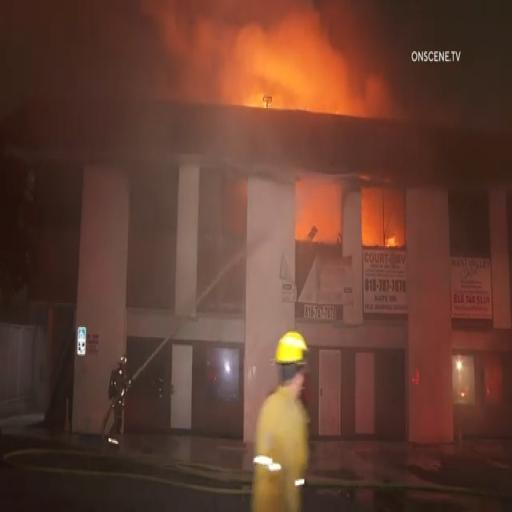smoke: (142, 0, 347, 95)
